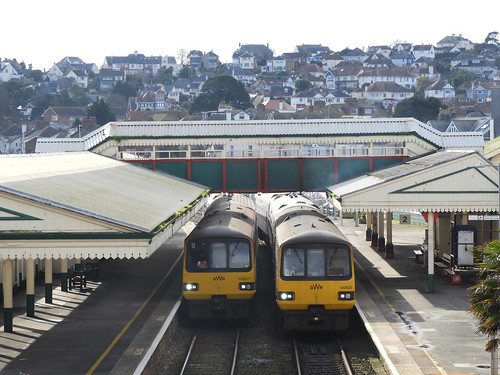building: (43, 54, 100, 85), (353, 65, 419, 88), (351, 85, 417, 108), (124, 88, 178, 115), (231, 42, 276, 69)
sky: (5, 1, 500, 46)
train: (265, 198, 377, 334), (165, 198, 268, 320)
train track: (160, 322, 381, 375)
